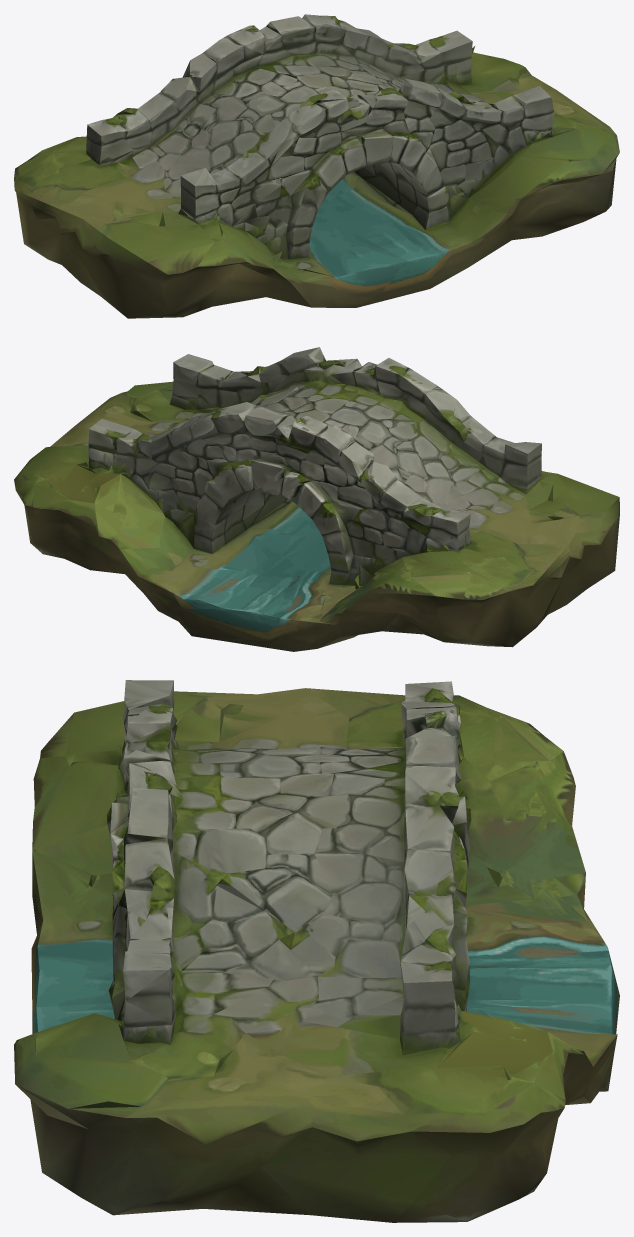
3 views of the same model, one above another, from view 1: azimuth 30°, elevation 25°; view 2: azimuth 150°, elevation 25°; view 3: azimuth 270°, elevation 25° (orthographic). The views are drawn at different scales.
Visible parts, largest first — view 1: stone_bridge; view 2: stone_bridge; view 3: stone_bridge.
Boxes of the visible parts, <box> form: stone_bridge: <box>14,14,619,318</box>; stone_bridge: <box>14,347,619,651</box>; stone_bridge: <box>14,680,619,1222</box>.
Size of the model in its own units: 0.9795 by 0.3606 by 0.5842.
Materials: 1 (1 with a texture image).
